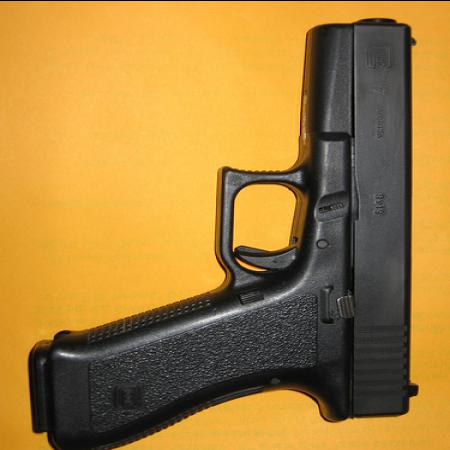Pistol: (33, 14, 422, 450)
